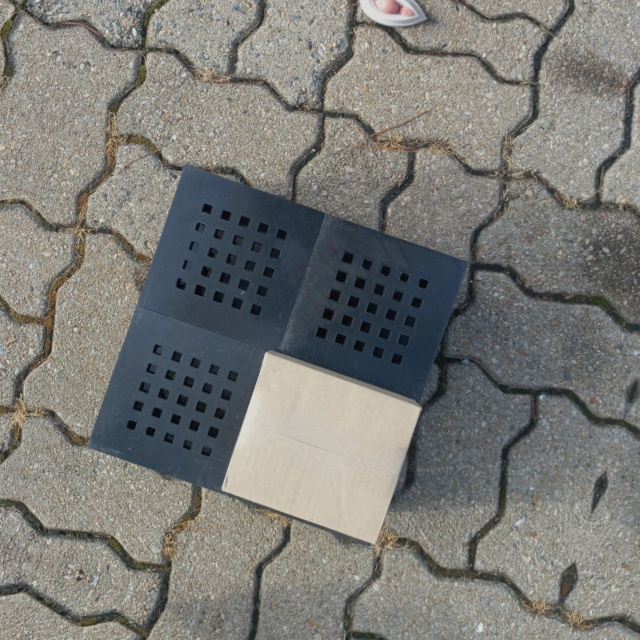box: (219, 347, 425, 549)
pallet: (80, 156, 476, 545)
